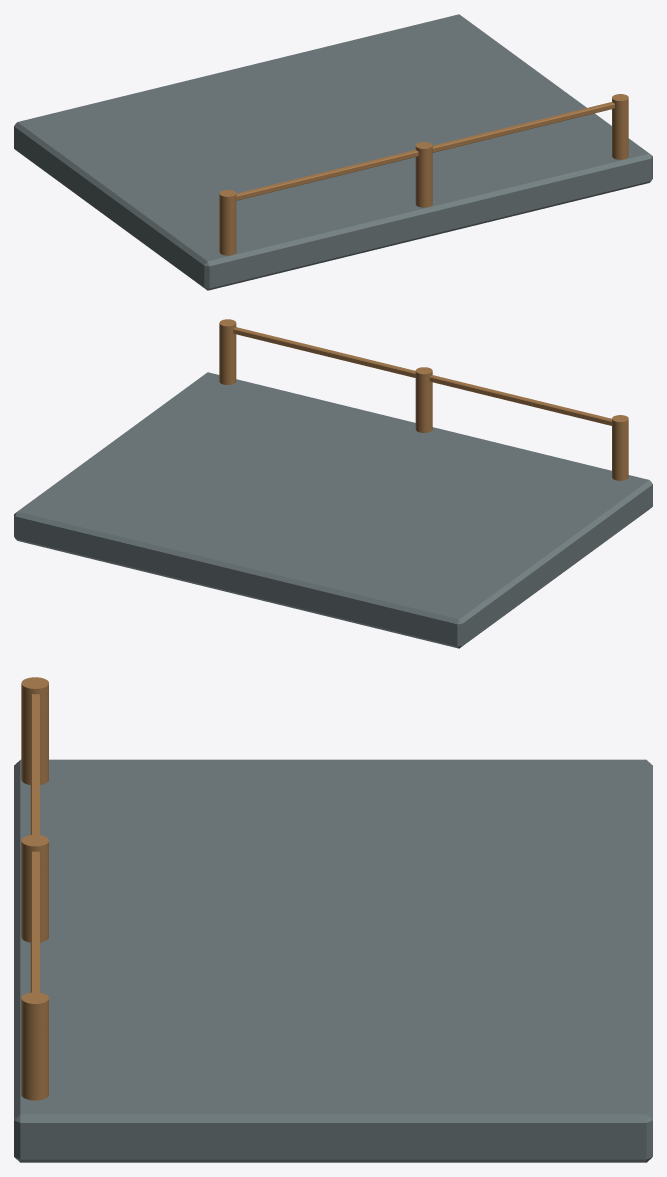
File: quay.lod0.glb
3 renders of one model, top to bottom at view 1: azimuth 30°, elevation 25°; view 2: azimuth 150°, elevation 25°; view 3: azimuth 270°, elevation 25°, orthographic. The views are drawn at different scales.
Parts seen in each view (by area): view 1: structure; view 2: structure; view 3: structure.
Boxes of the visible parts, x1,y1,x2,y2 form: structure: (14,14,652,290); structure: (14,319,652,648); structure: (14,677,652,1162).
Size of the model in its own units: 8 by 1.5 by 6.
